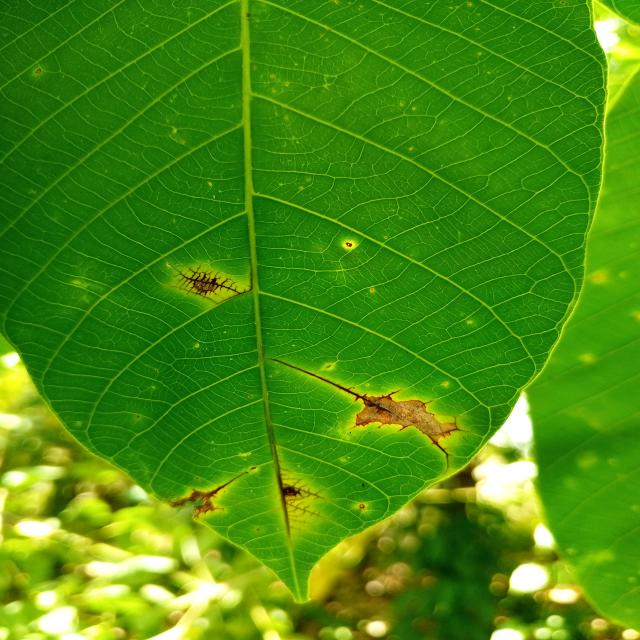Colletotrichum: (346, 242, 352, 247), (359, 504, 365, 508)
Corynespora: (268, 356, 468, 473), (269, 358, 395, 414), (272, 446, 328, 542), (166, 263, 252, 306), (208, 472, 246, 498), (427, 436, 453, 473), (375, 389, 404, 401), (352, 420, 370, 429)
Leaf-Blight: (356, 397, 456, 443), (173, 492, 204, 509), (193, 501, 216, 518)
